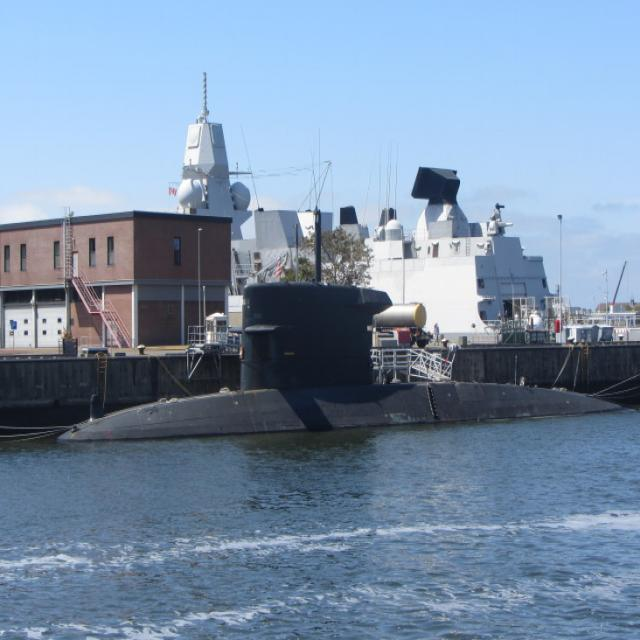submarine: (64, 214, 640, 422)
